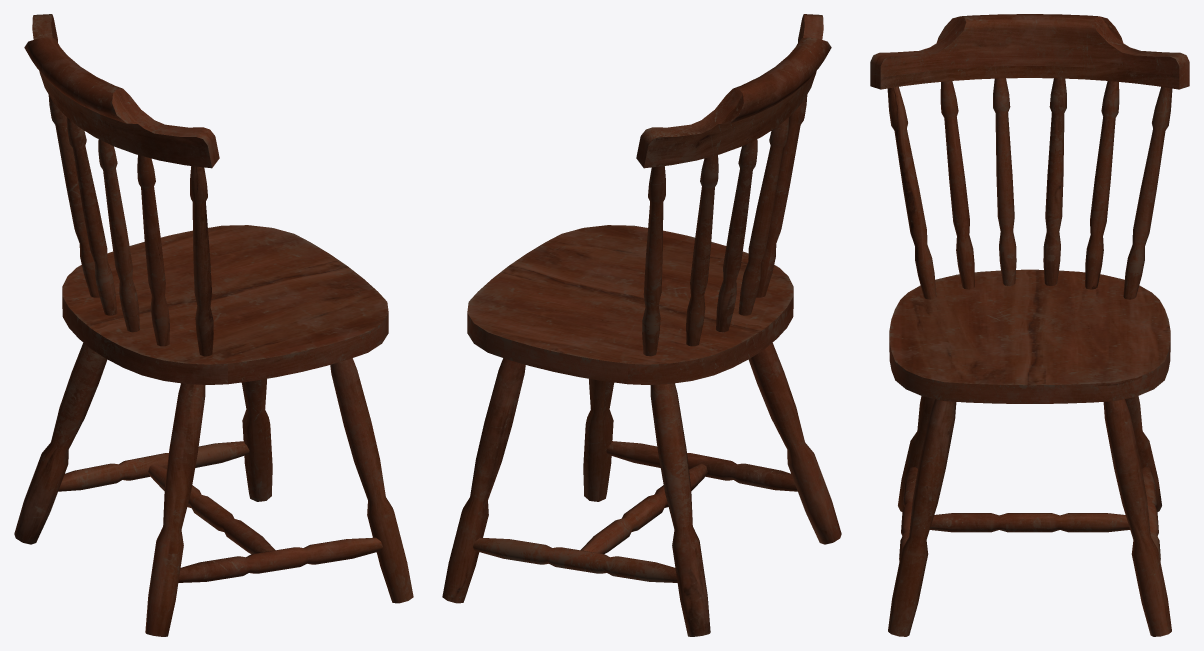
File: chair_low.fbx
3 renders of one model, left to right at view 1: azimuth 30°, elevation 25°; view 2: azimuth 150°, elevation 25°; view 3: azimuth 270°, elevation 25°, orthographic. The views are drawn at different scales.
Parts seen in each view (by area): view 1: initialShadingGroup_lowpoly_mesh; view 2: initialShadingGroup_lowpoly_mesh; view 3: initialShadingGroup_lowpoly_mesh.
Part boxes in pixels (x1,y1,x2,y2): initialShadingGroup_lowpoly_mesh: [14, 14, 413, 636]; initialShadingGroup_lowpoly_mesh: [442, 14, 841, 636]; initialShadingGroup_lowpoly_mesh: [870, 14, 1189, 636].
Size of the model in its own units: 73.56 by 133 by 76.1.
